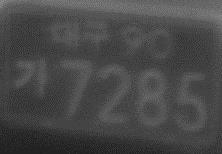0: (145, 28, 175, 61)
2: (97, 63, 132, 126)
5: (172, 69, 210, 132)
7: (57, 57, 95, 120)
8: (133, 66, 169, 129)
9: (120, 21, 144, 63)
가: (11, 56, 52, 99)
대구_O: (49, 19, 113, 57)
